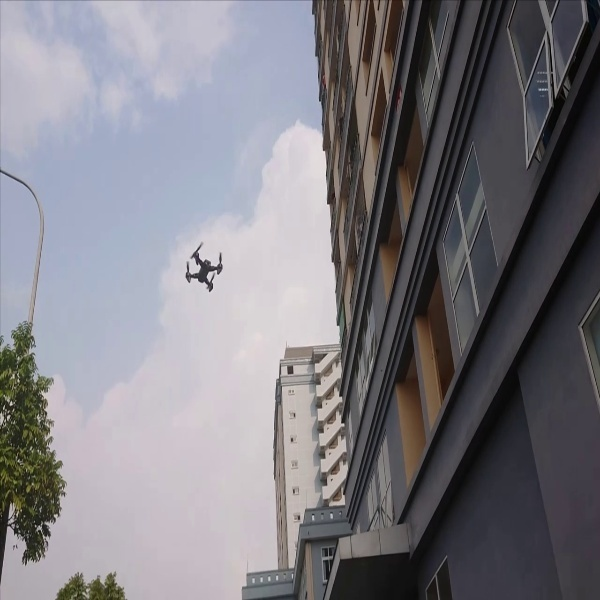drone: (175, 239, 227, 296)
